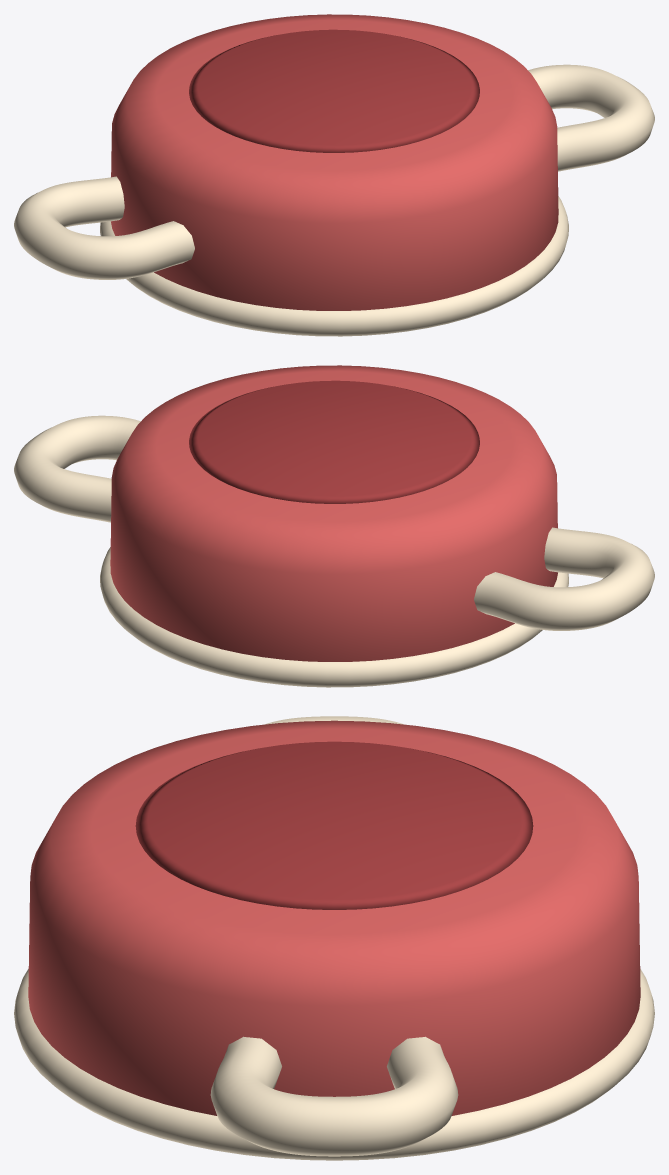
Rendered from pot.glb.
3 renders of one model, top to bottom at view 1: azimuth 30°, elevation 25°; view 2: azimuth 150°, elevation 25°; view 3: azimuth 270°, elevation 25°, orthographic. The views are drawn at different scales.
Parts seen in each view (by area): view 1: BLIP_Hat_Pot; view 2: BLIP_Hat_Pot; view 3: BLIP_Hat_Pot.
Part boxes in pixels (x1,y1,x2,y2): BLIP_Hat_Pot: [14, 14, 654, 336]; BLIP_Hat_Pot: [14, 365, 654, 687]; BLIP_Hat_Pot: [14, 716, 654, 1160].
Bounding box in the file's own units: 2.37 × 0.575 × 1.58.
